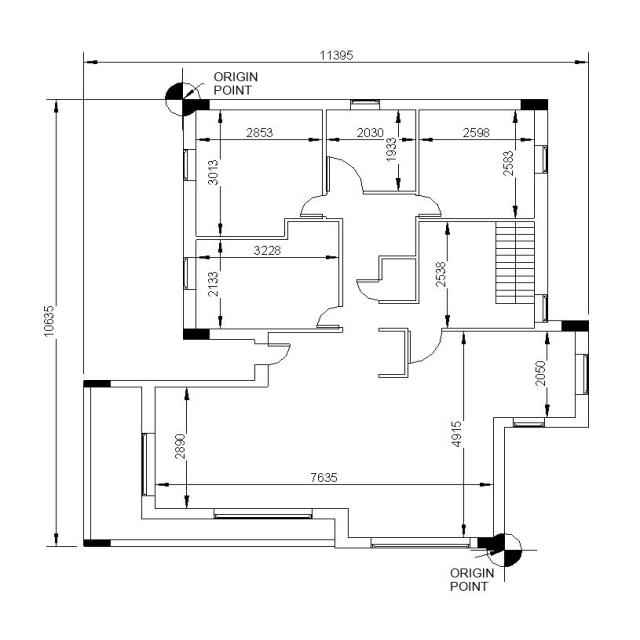Column: (182, 99, 210, 110), (521, 99, 548, 110), (562, 321, 589, 332), (183, 328, 210, 339), (477, 538, 505, 548), (83, 539, 111, 547), (83, 380, 111, 388)
Door: (326, 156, 363, 194), (408, 328, 442, 364), (254, 339, 291, 365), (415, 195, 443, 219), (316, 306, 343, 330), (300, 195, 326, 219), (357, 280, 382, 302)
Staircase: (495, 222, 534, 328)
Window: (371, 537, 470, 548), (214, 508, 312, 519), (142, 433, 156, 496), (575, 354, 589, 395), (183, 257, 196, 290), (183, 149, 196, 181), (534, 145, 548, 174), (534, 294, 548, 322), (513, 417, 545, 428), (350, 99, 380, 110)
